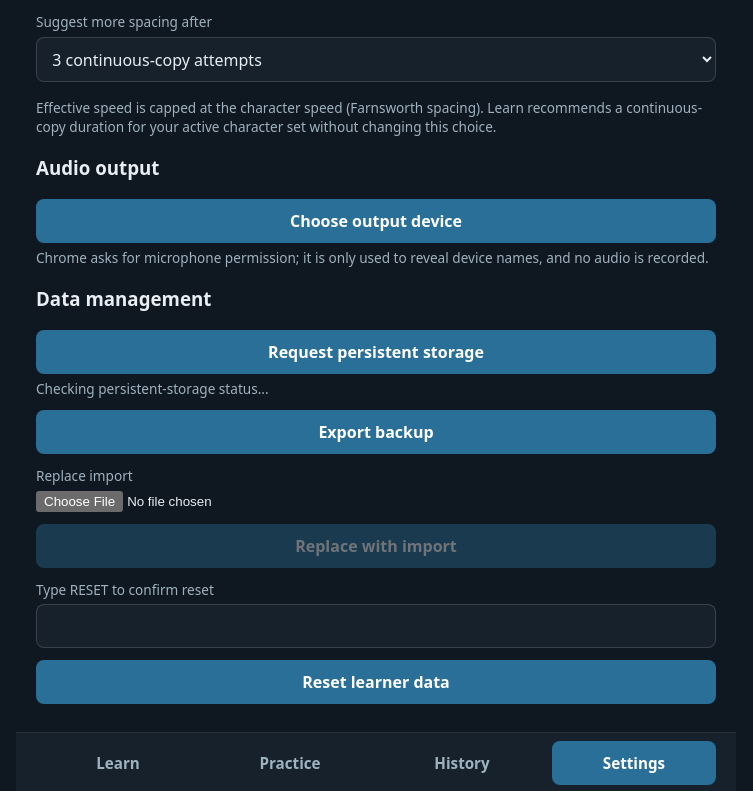
Test: StatsHistoryScreen › is reachable from app navigation without direct Dexie access
(page scrolled)
Click the link "History".
click(462, 764)  # box [434,754,490,774]
(page scrolled)
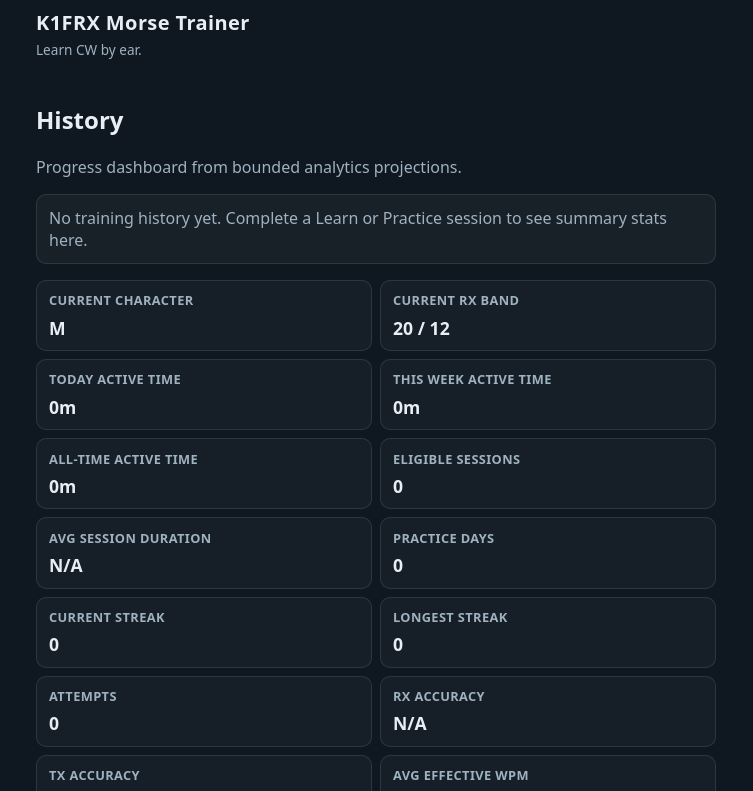
Expected: the heading "History" is shown, [36,103,123,136]
